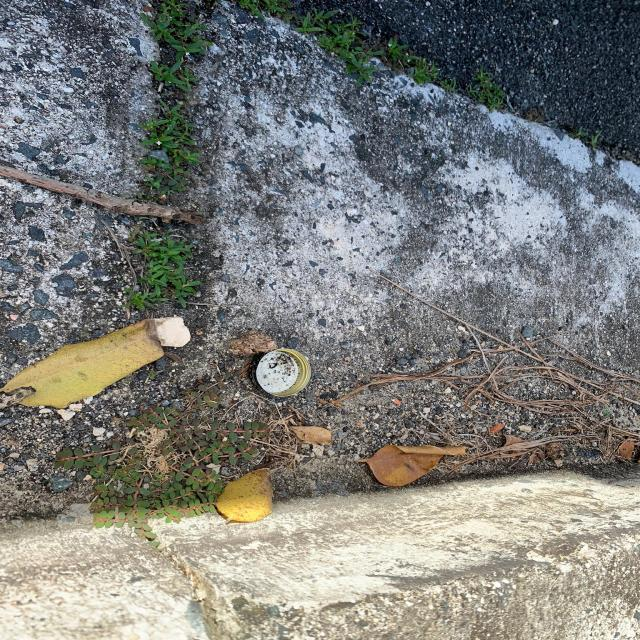Metal bottle cap: (248, 348, 310, 397)
